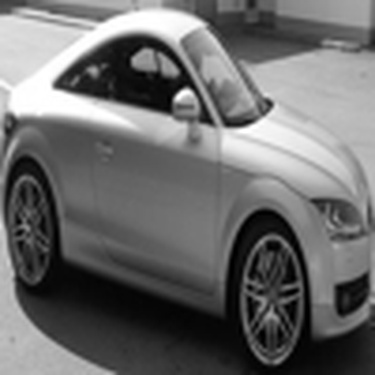car: (9, 13, 368, 294)
